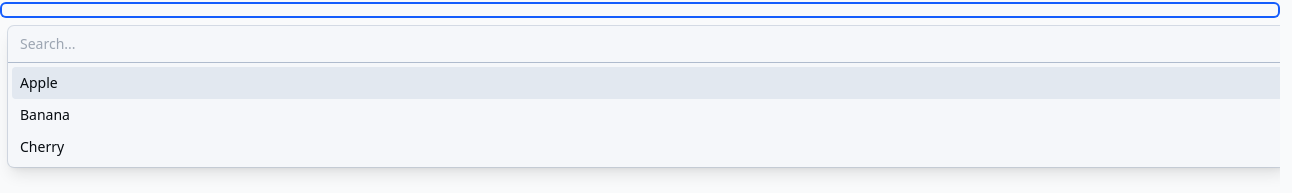
Scenario: SelectMenu › search / filtering › should show emptyText when no results match
In the field with placeholder "Search...": (644, 44) [8,26,1280,63], type "zzz"
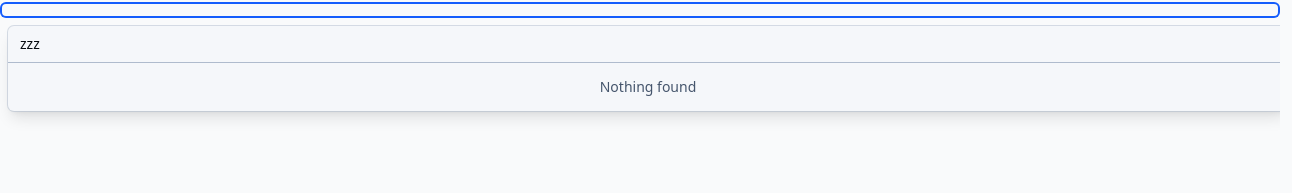
expect the text "Nothing found" is shown: met, box [600,77,696,96]
